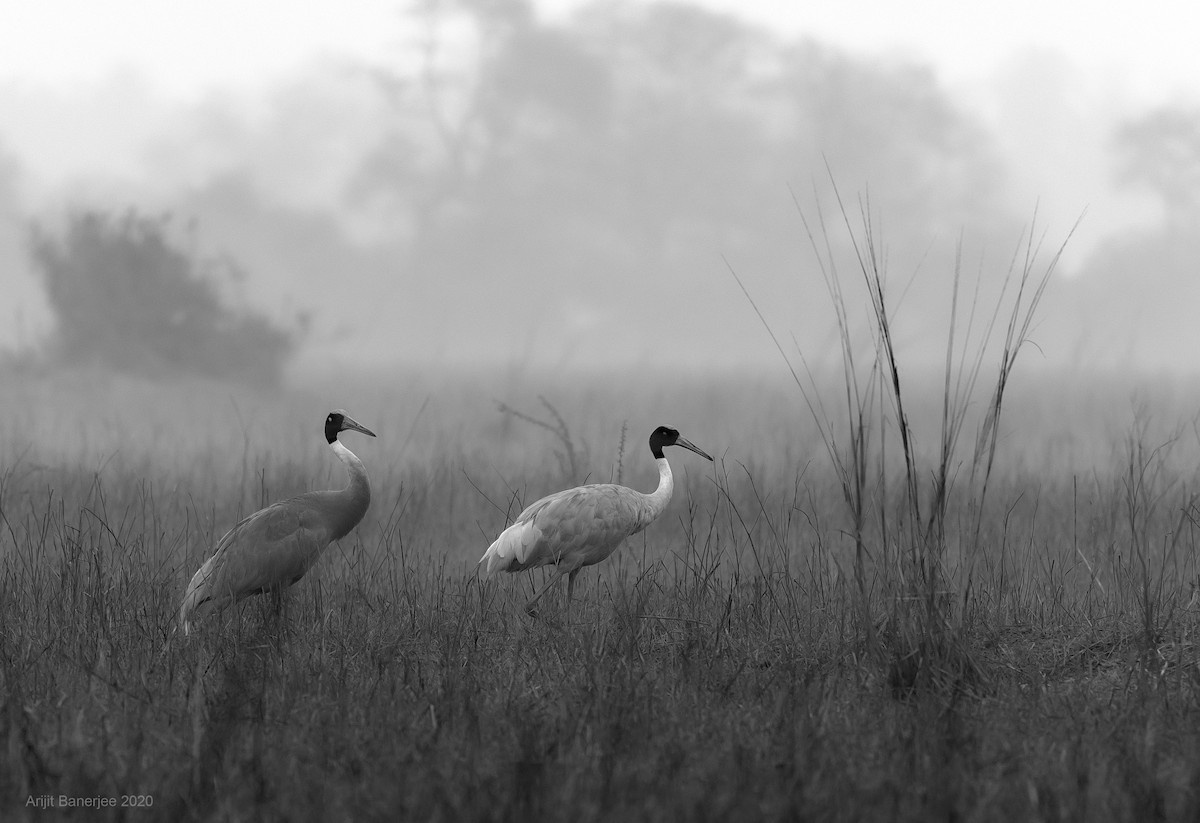crane: (489, 433, 717, 631), (185, 407, 384, 631)
